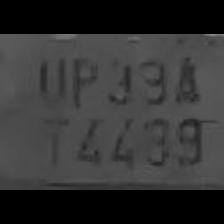3: (140, 109, 172, 169), (100, 50, 132, 106)
4: (103, 107, 135, 169), (72, 107, 104, 167)
9: (172, 111, 204, 167)
A: (169, 49, 201, 105)
P: (64, 50, 100, 106)
U: (26, 50, 66, 104)
